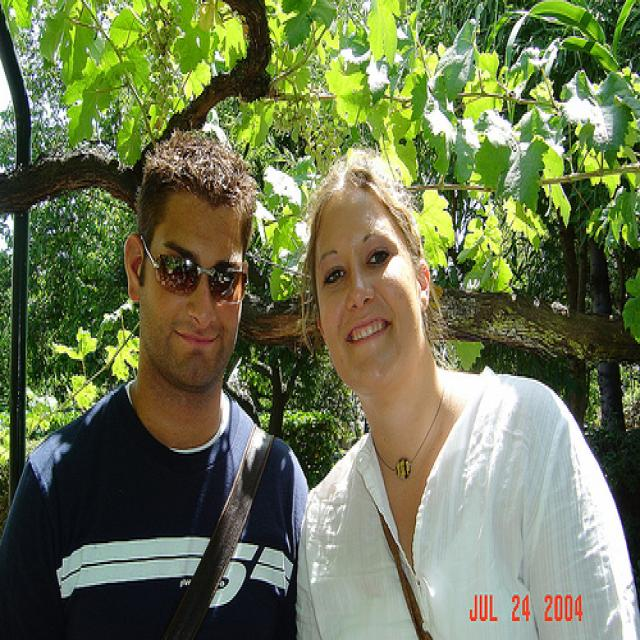person: (1, 128, 333, 639), (292, 159, 640, 639)
